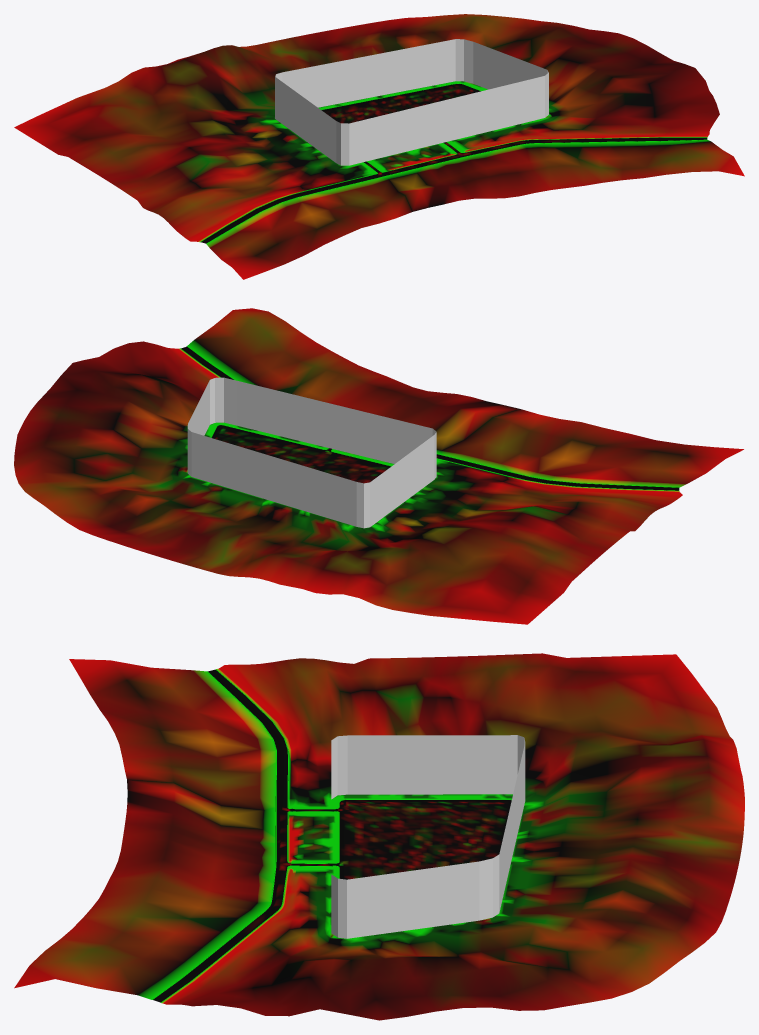
File: workshop_map_main.coll.fbx
The picture shows the model from 3 angles, top to bottom: view 1: azimuth 30°, elevation 25°; view 2: azimuth 150°, elevation 25°; view 3: azimuth 270°, elevation 25°; orthographic projection. The views are drawn at different scales.
Visible parts, largest first — view 1: terrain, wall_coll, road, roadside; view 2: terrain, wall_coll, road, roadside; view 3: terrain, wall_coll, road, roadside.
Boxes of the visible parts, x1,y1,x2,y2 form: terrain: [14, 14, 744, 279]; wall_coll: [275, 39, 548, 165]; road: [201, 84, 707, 243]; roadside: [200, 83, 707, 243]; terrain: [14, 308, 743, 624]; wall_coll: [187, 377, 436, 528]; road: [181, 346, 679, 490]; roadside: [180, 346, 679, 490]; terrain: [14, 653, 744, 1020]; wall_coll: [331, 735, 525, 938]; road: [153, 669, 511, 1002]; roadside: [152, 669, 510, 1002].
Bounding box in the file's own units: 536 × 39.17 × 436.
